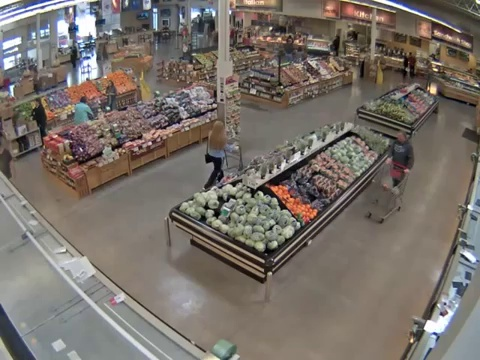face: (396, 133, 404, 141)
